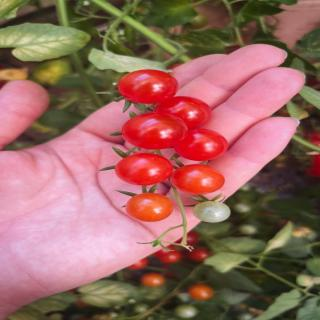Tomat: (121, 113, 189, 151), (118, 70, 180, 105), (115, 153, 174, 187), (153, 97, 213, 129), (174, 129, 229, 162), (170, 164, 226, 196), (125, 193, 175, 223), (188, 285, 214, 301), (184, 14, 210, 30), (141, 273, 166, 288)
